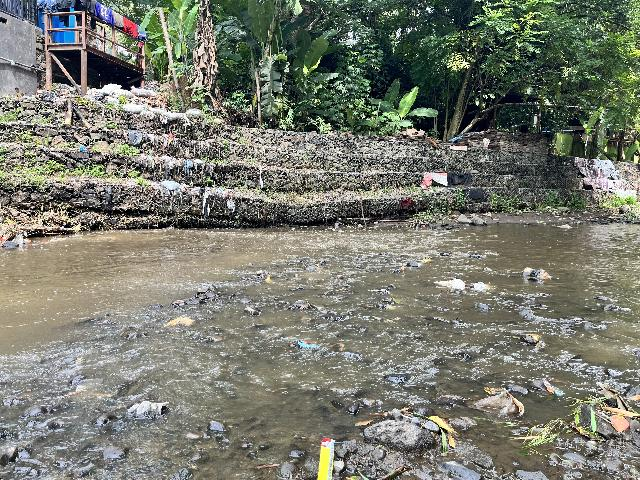Sampah Anorganik: (479, 383, 528, 418), (535, 373, 573, 402), (293, 333, 343, 355), (514, 263, 555, 288), (317, 434, 338, 480), (435, 279, 467, 290), (367, 287, 393, 295), (471, 280, 488, 292), (419, 257, 433, 263)
